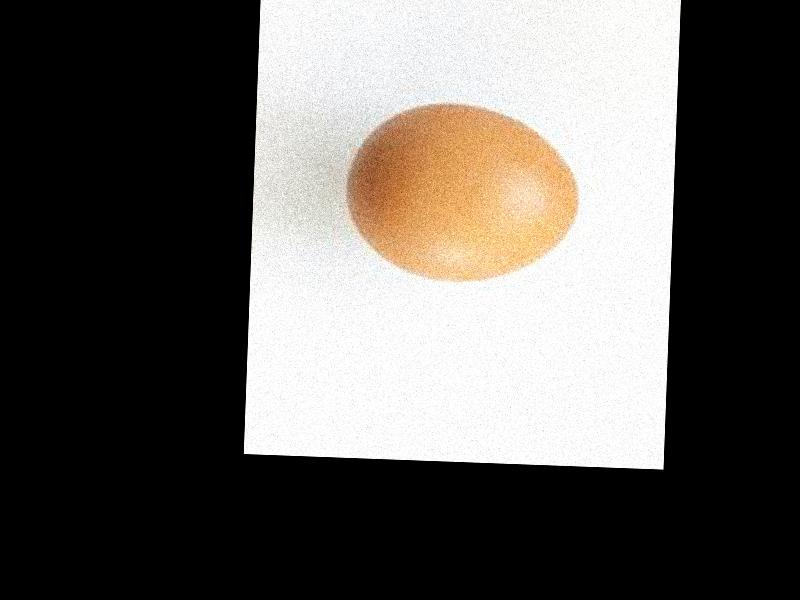Eggs: (341, 98, 585, 284)
